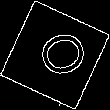O_W: (23, 26, 87, 84)
